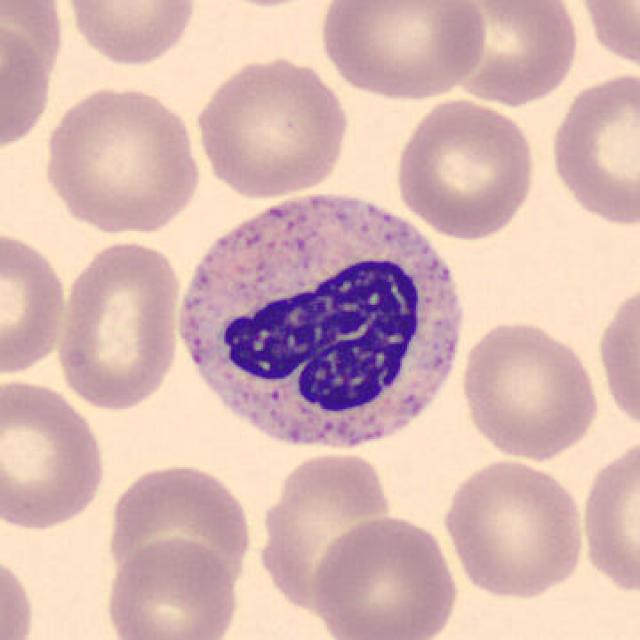Neutrophil: (165, 182, 473, 467)
RBC: (39, 80, 205, 236), (190, 51, 352, 201), (252, 448, 398, 613), (53, 236, 185, 413), (439, 455, 589, 601), (391, 95, 541, 240), (457, 316, 603, 464), (103, 458, 256, 596), (310, 511, 462, 640), (314, 0, 490, 104), (0, 375, 108, 534), (544, 67, 638, 229), (441, 0, 581, 108), (101, 534, 242, 640), (0, 226, 71, 377), (576, 432, 638, 598), (59, 0, 201, 69), (0, 7, 60, 158), (594, 275, 638, 437), (571, 0, 638, 74), (0, 550, 37, 640)
